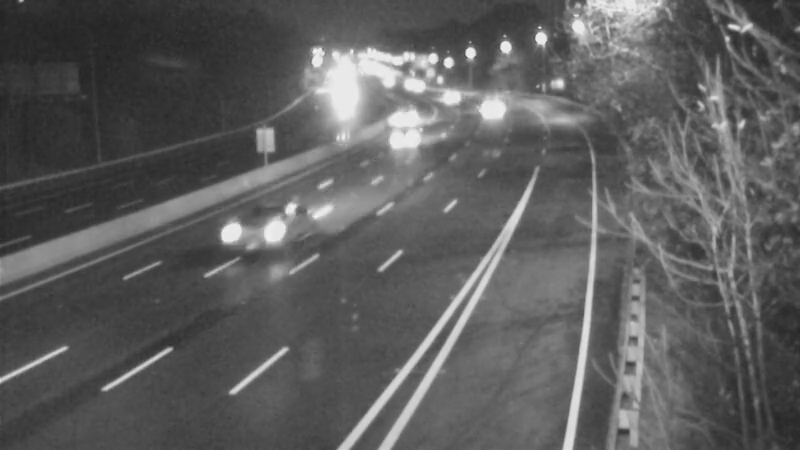vehicle: (214, 197, 294, 277), (426, 73, 476, 123), (460, 78, 510, 128), (372, 93, 422, 143), (379, 115, 429, 165)
